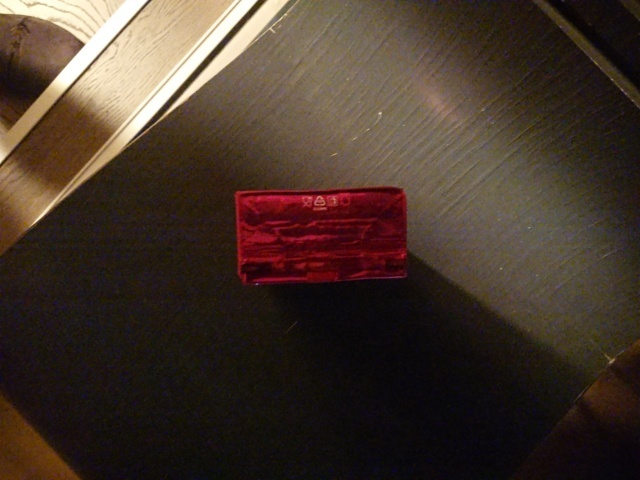Barcaffe Classic Original 225g: (230, 182, 415, 288)
